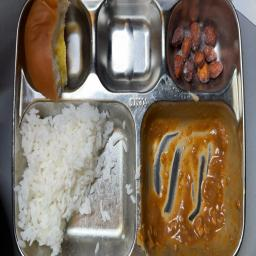50_bread: (24, 1, 92, 96)
50_nuts: (167, 11, 233, 87)
50_rice: (16, 100, 136, 251)
empty: (141, 105, 241, 256), (96, 3, 160, 92)
